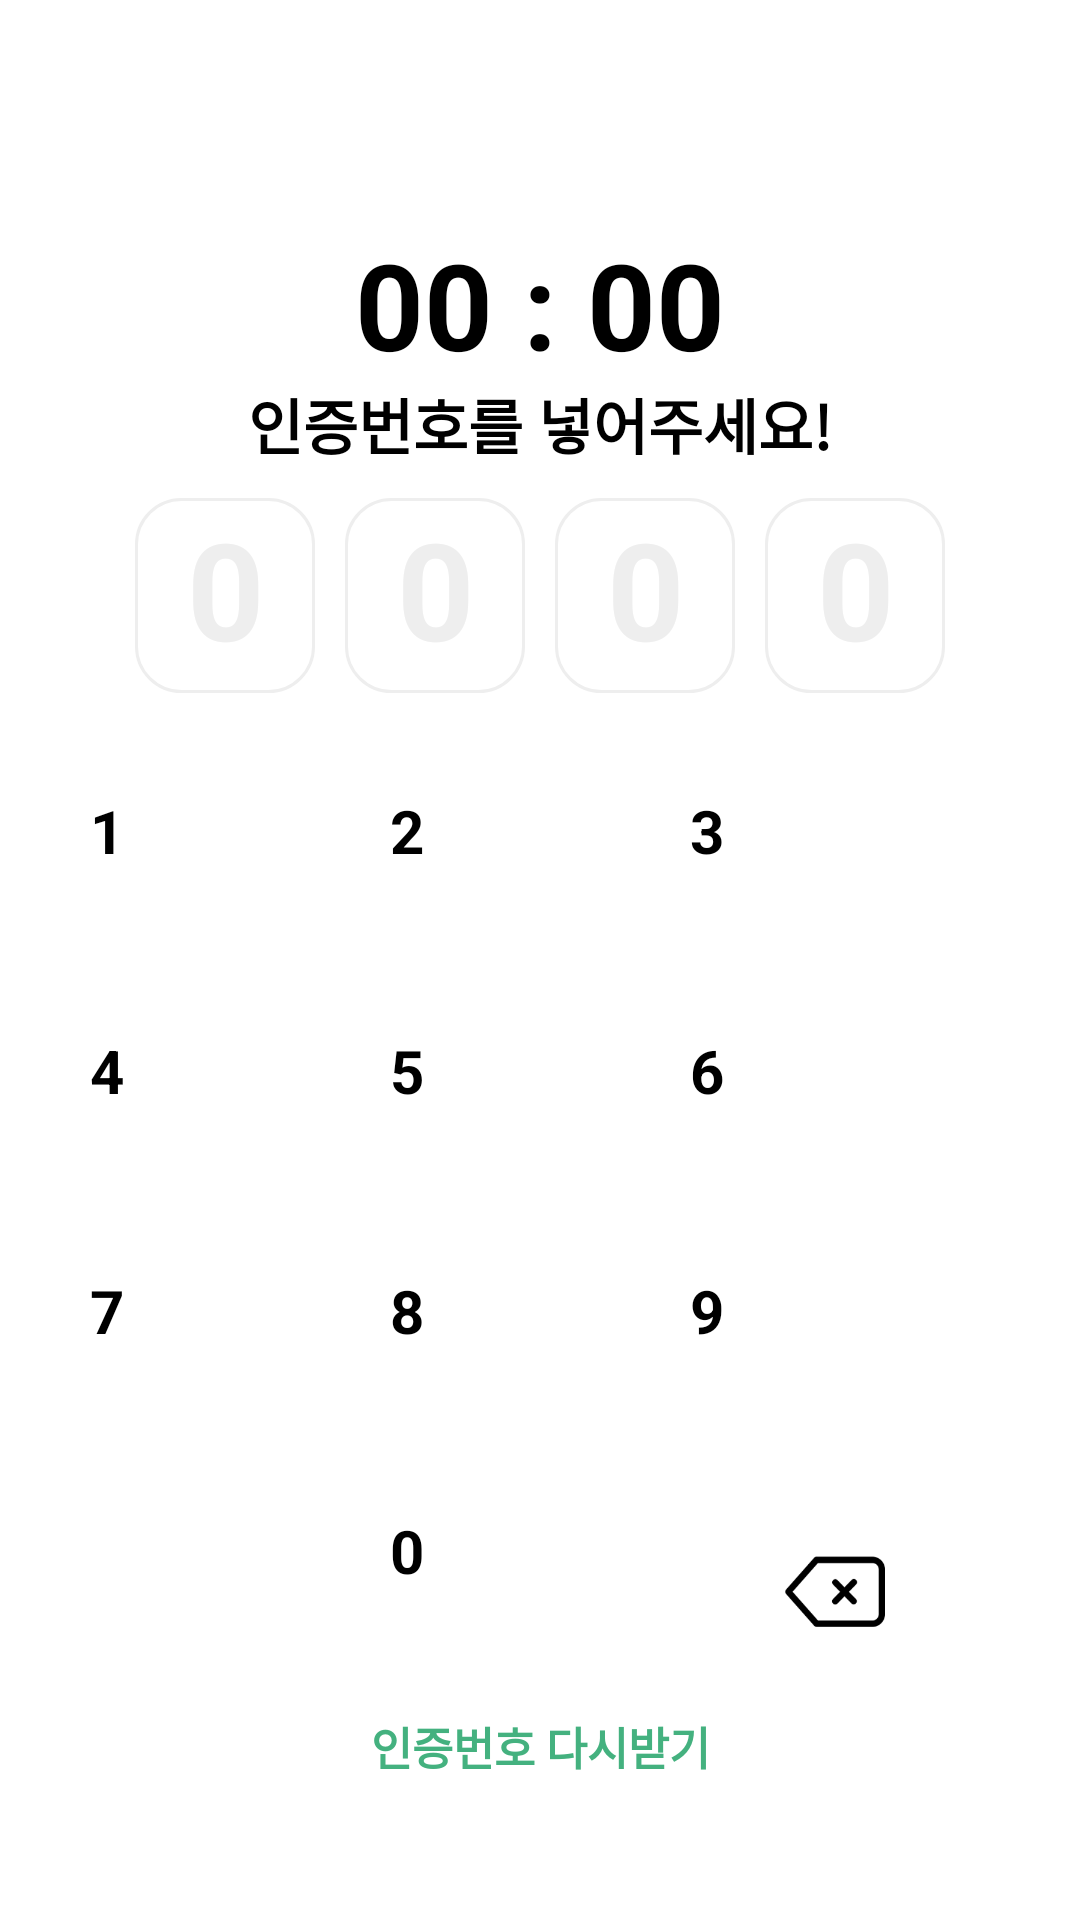

Named icons in this screenshot (1080×1920) and their bounding boxes, (x1, y1, x2, y2):
keypad del: (785, 1556, 885, 1627)
